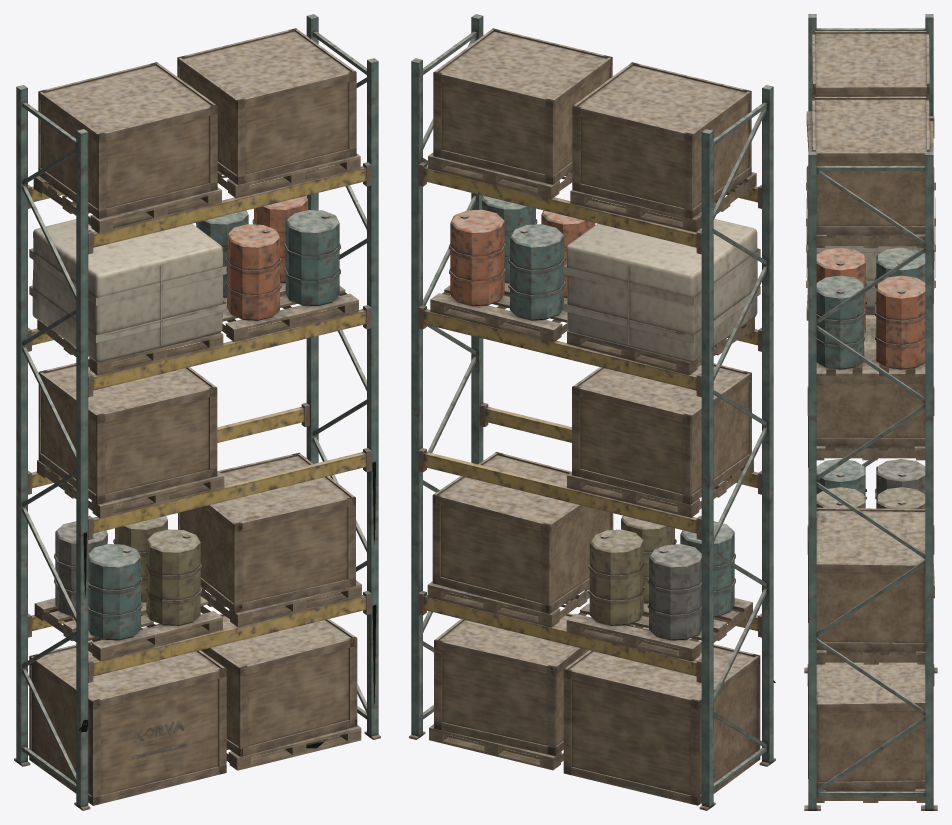
Rendered from rack_bay_bulk.fbx.
3 views of the same model, side by side, from view 1: azimuth 30°, elevation 25°; view 2: azimuth 150°, elevation 25°; view 3: azimuth 270°, elevation 25° (orthographic). The views are drawn at different scales.
Parts seen in each view (by area): view 1: Body; view 2: Body; view 3: Body.
Part boxes in pixels (<box>): Body: <box>14,14,380,810</box>; Body: <box>409,14,775,810</box>; Body: <box>804,14,937,810</box>.
Bounding box in the file's own units: 12.08 × 26 × 4.8.
Materials: 1 (1 with a texture image).
